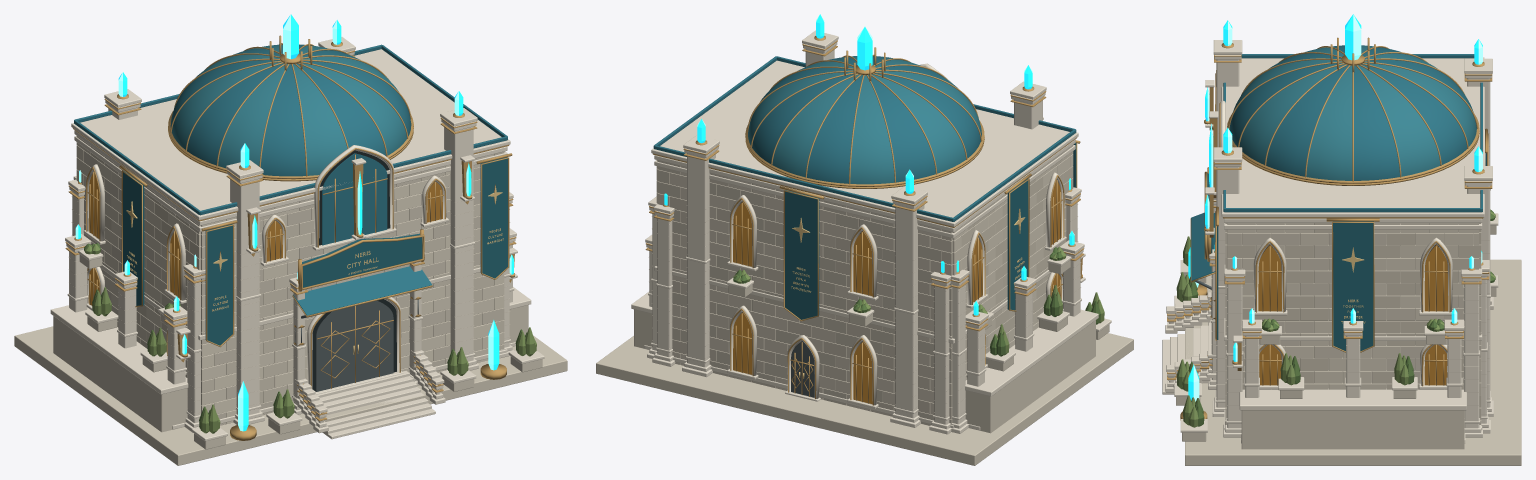
Rendered from Neris-City-Hall.glb.
3 renders of one model, left to right at view 1: azimuth 30°, elevation 25°; view 2: azimuth 150°, elevation 25°; view 3: azimuth 270°, elevation 25°, orthographic. The views are drawn at different scales.
Parts seen in each view (by area): view 1: Pale Carved Stone, Teal Enamel Roof, Ivory Limestone, Aged Gold, Neris Teal Banner, Teal Enamel Alternate, Limestone Block Tone 4, Limestone Block Tone 2, Limestone Block Tone 1, Limestone Block Tone 3, Patinated Iron, Fresh Green Leaves (+5 smaller); view 2: Pale Carved Stone, Ivory Limestone, Teal Enamel Roof, Limestone Block Tone 1, Aged Gold, Teal Enamel Alternate, Limestone Block Tone 3, Limestone Block Tone 2, Limestone Block Tone 4, Neris Teal Banner, Amber Window Glass, Cyan Relay Crystal (+3 smaller); view 3: Pale Carved Stone, Ivory Limestone, Teal Enamel Roof, Aged Gold, Teal Enamel Alternate, Limestone Block Tone 1, Limestone Block Tone 2, Limestone Block Tone 3, Neris Teal Banner, Amber Window Glass, Limestone Block Tone 4, Fresh Green Leaves (+3 smaller).
Part boxes in pixels (left/top/right/bottom): Pale Carved Stone: left=50, top=37, right=544, bottom=441; Teal Enamel Roof: left=74, top=44, right=507, bottom=315; Ivory Limestone: left=14, top=197, right=567, bottom=465; Aged Gold: left=65, top=35, right=516, bottom=440; Neris Teal Banner: left=123, top=157, right=507, bottom=345; Teal Enamel Alternate: left=171, top=44, right=406, bottom=175; Limestone Block Tone 4: left=76, top=136, right=505, bottom=424; Limestone Block Tone 2: left=84, top=150, right=504, bottom=403; Limestone Block Tone 1: left=84, top=146, right=504, bottom=425; Limestone Block Tone 3: left=76, top=154, right=504, bottom=405; Patinated Iron: left=295, top=299, right=418, bottom=391; Fresh Green Leaves: left=85, top=244, right=536, bottom=433; Pale Carved Stone: left=631, top=30, right=1111, bottom=434; Ivory Limestone: left=596, top=204, right=1133, bottom=465; Teal Enamel Roof: left=653, top=56, right=1076, bottom=221; Limestone Block Tone 1: left=656, top=152, right=1073, bottom=425; Aged Gold: left=645, top=36, right=1084, bottom=405; Teal Enamel Alternate: left=748, top=56, right=981, bottom=184; Limestone Block Tone 3: left=656, top=154, right=1073, bottom=419; Limestone Block Tone 2: left=669, top=145, right=1073, bottom=416; Limestone Block Tone 4: left=672, top=166, right=1066, bottom=405; Neris Teal Banner: left=785, top=143, right=1076, bottom=319; Amber Window Glass: left=733, top=181, right=1061, bottom=404; Cyan Relay Crystal: left=664, top=14, right=1074, bottom=315; Pale Carved Stone: left=1162, top=40, right=1498, bottom=443; Ivory Limestone: left=1176, top=133, right=1521, bottom=465; Teal Enamel Roof: left=1191, top=45, right=1482, bottom=280; Aged Gold: left=1167, top=37, right=1492, bottom=420; Teal Enamel Alternate: left=1232, top=45, right=1476, bottom=180; Limestone Block Tone 1: left=1225, top=223, right=1481, bottom=420; Limestone Block Tone 2: left=1225, top=232, right=1481, bottom=424; Limestone Block Tone 3: left=1225, top=223, right=1481, bottom=420; Neris Teal Banner: left=1207, top=153, right=1486, bottom=351; Amber Window Glass: left=1258, top=245, right=1448, bottom=385; Limestone Block Tone 4: left=1225, top=223, right=1481, bottom=424; Fresh Green Leaves: left=1176, top=212, right=1495, bottom=427.
Size of the model in its own units: 22.4 by 18.94 by 17.39.
